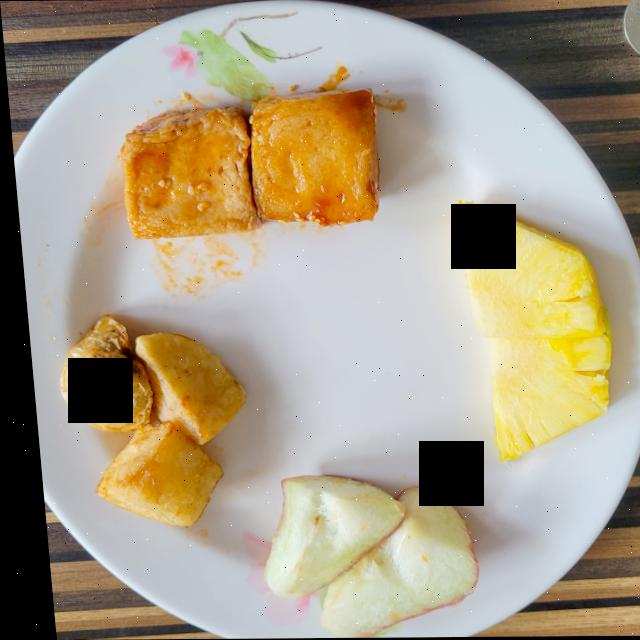coin: (623, 0, 640, 56)
creamy tofu: (118, 89, 376, 238)
fried potato: (53, 315, 238, 525)
pineapple: (452, 201, 605, 462)
